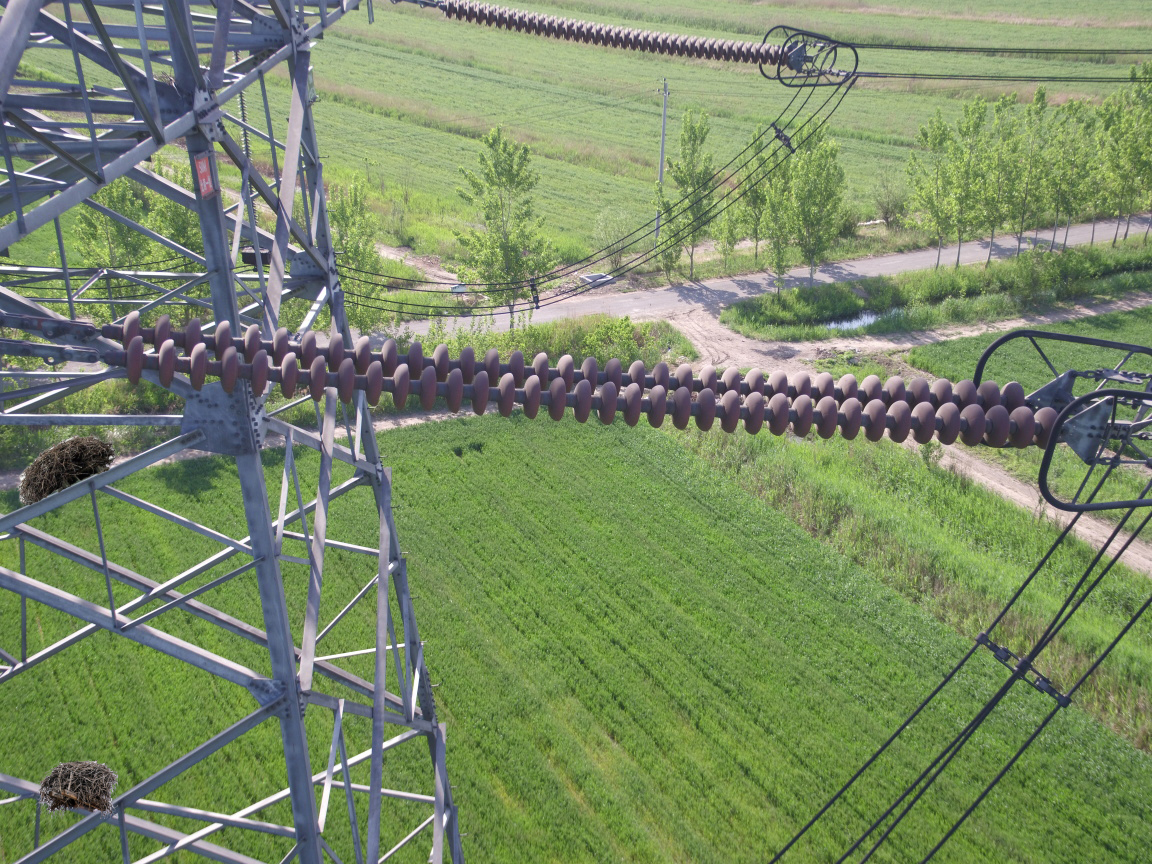nest: (15, 424, 113, 514), (34, 758, 126, 815)
